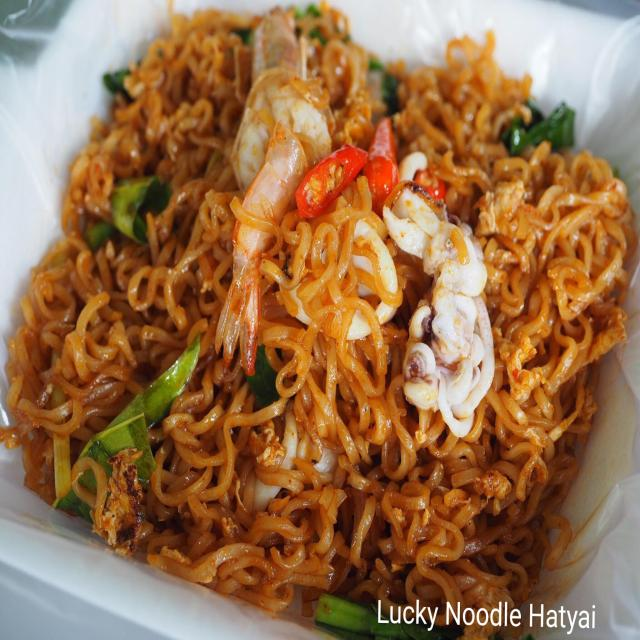carb: (91, 81, 557, 561)
meat: (401, 197, 503, 420), (248, 85, 311, 248)
stir-fried instant noodles: (22, 20, 610, 595)
vegetable: (105, 379, 157, 482), (111, 173, 152, 236)
